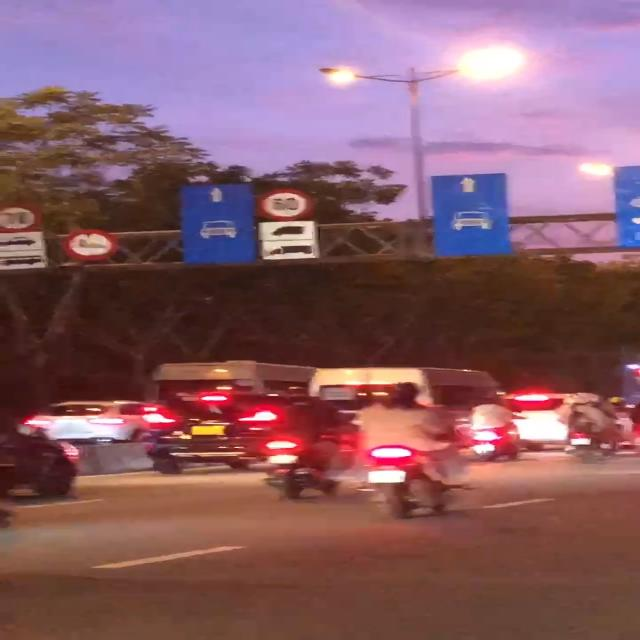Bien bao toc do toi da cho phep: (249, 191, 322, 222)
